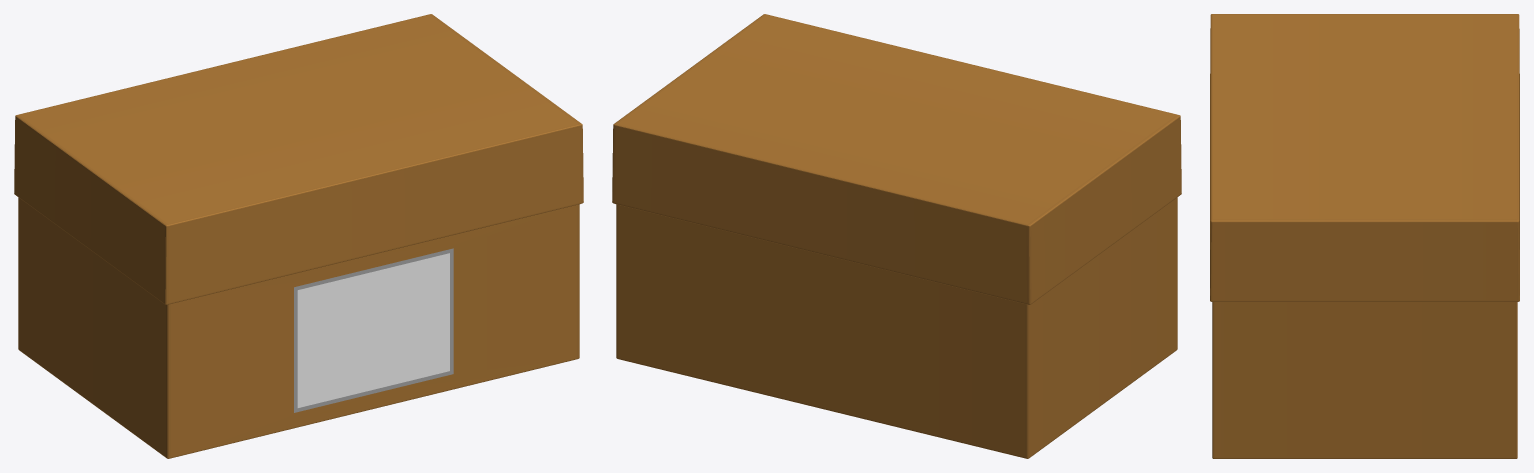
File: Brown Box W_Lid.fbx
3 renders of one model, left to right at view 1: azimuth 30°, elevation 25°; view 2: azimuth 150°, elevation 25°; view 3: azimuth 270°, elevation 25°, orthographic.
Parts seen in each view (by area): view 1: Brown Box w/Lid; view 2: Brown Box w/Lid; view 3: Brown Box w/Lid.
Part boxes in pixels (x1,y1,x2,y2): Brown Box w/Lid: [14, 14, 583, 458]; Brown Box w/Lid: [612, 14, 1181, 458]; Brown Box w/Lid: [1210, 14, 1519, 458].
Size of the model in its own units: 220 by 258 by 410.
1 material, 1 textured.
